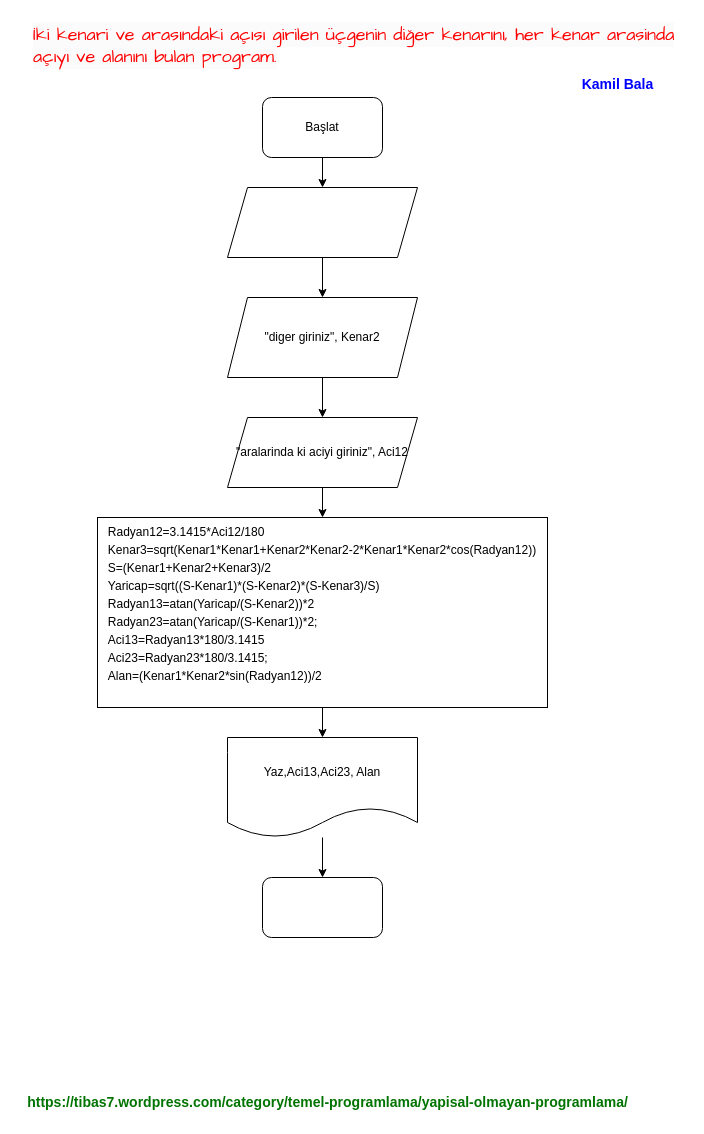
The diagram is 704 pixels wide and 1134 high, and some of its shapes have lost their labels. Each missing label, with the box of its shape:
"taban kenari", Kenar1: (226, 186, 418, 258)
Bitir: (262, 876, 382, 938)
